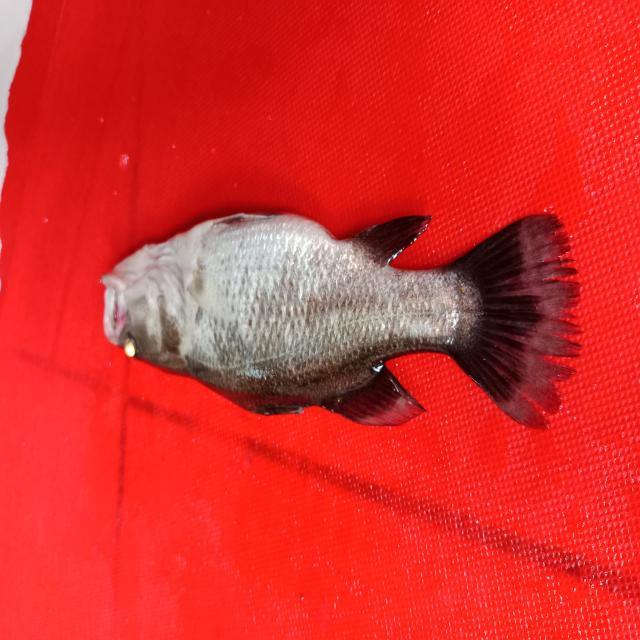ikan: (87, 186, 591, 453)
